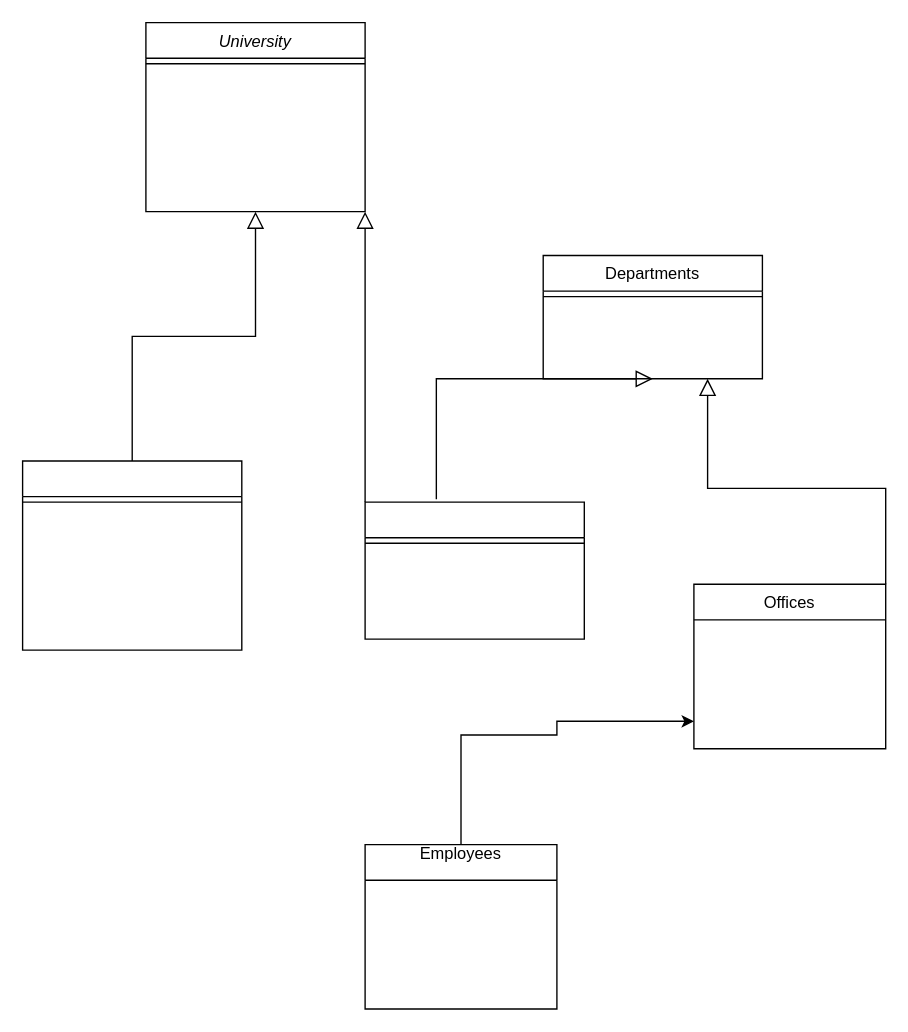
The diagram is 908 pixels wide and 1032 high, and some of its shapes have lost their labels. Here are the shapes that lost their labels. From the top down, the box of each, then its label:
(21, 460, 242, 650): Student
(364, 501, 584, 639): Professor
